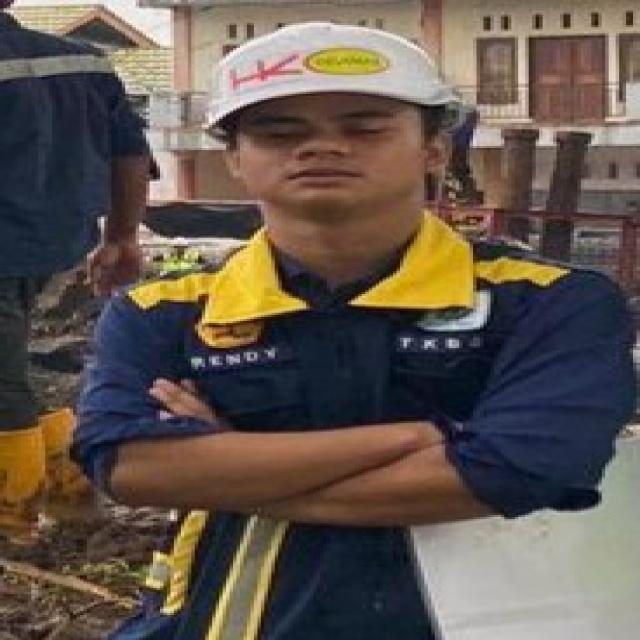safetyhelmet: (200, 16, 467, 182)
